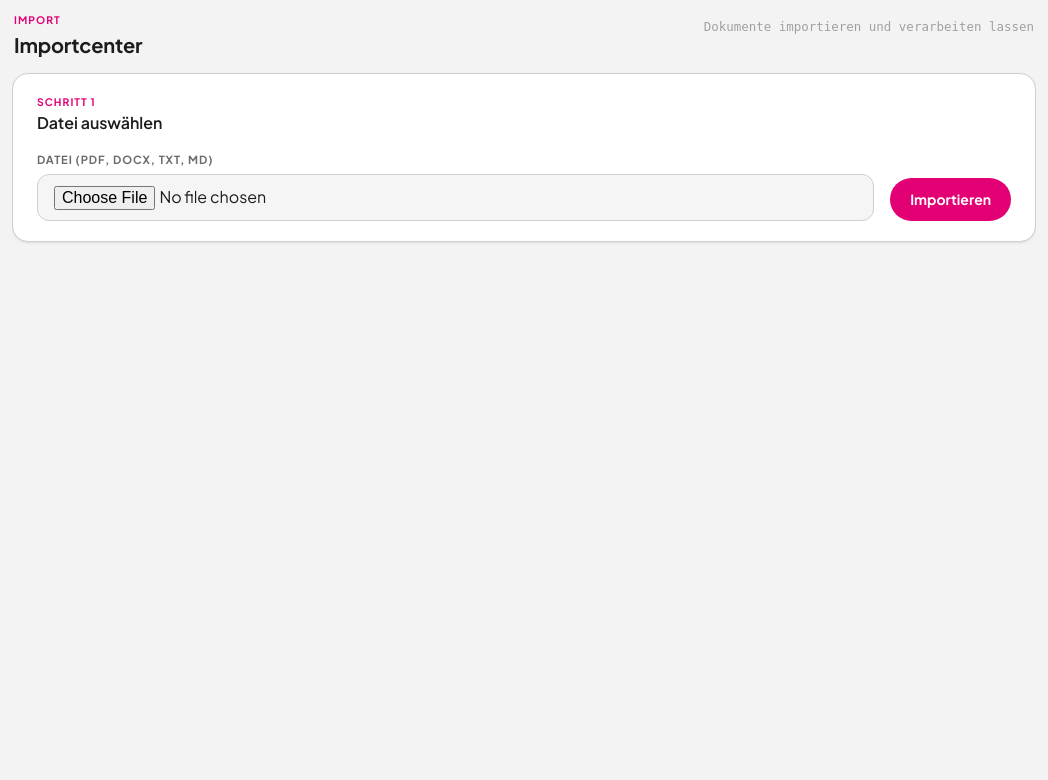
Test: ImportCenterPage › reset button clears current state back to idle
This screenshot has width=1048, height=780.
Submit the form with test id "upload-form", box [37,151,1011,221]
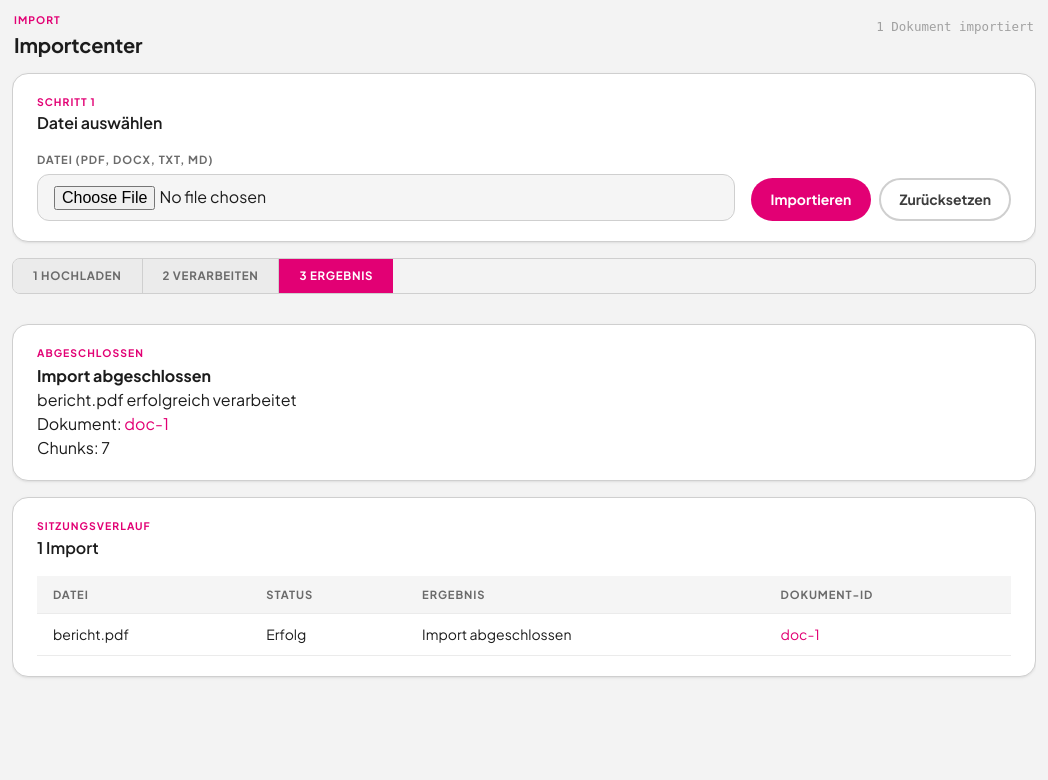
Expected: the element with test id "import-success" is shown, [12,324,1036,481]
Note: Reset button is visible after import
Click the button with test id "reset-button" at coordinates (945, 200), box [879,178,1011,221]
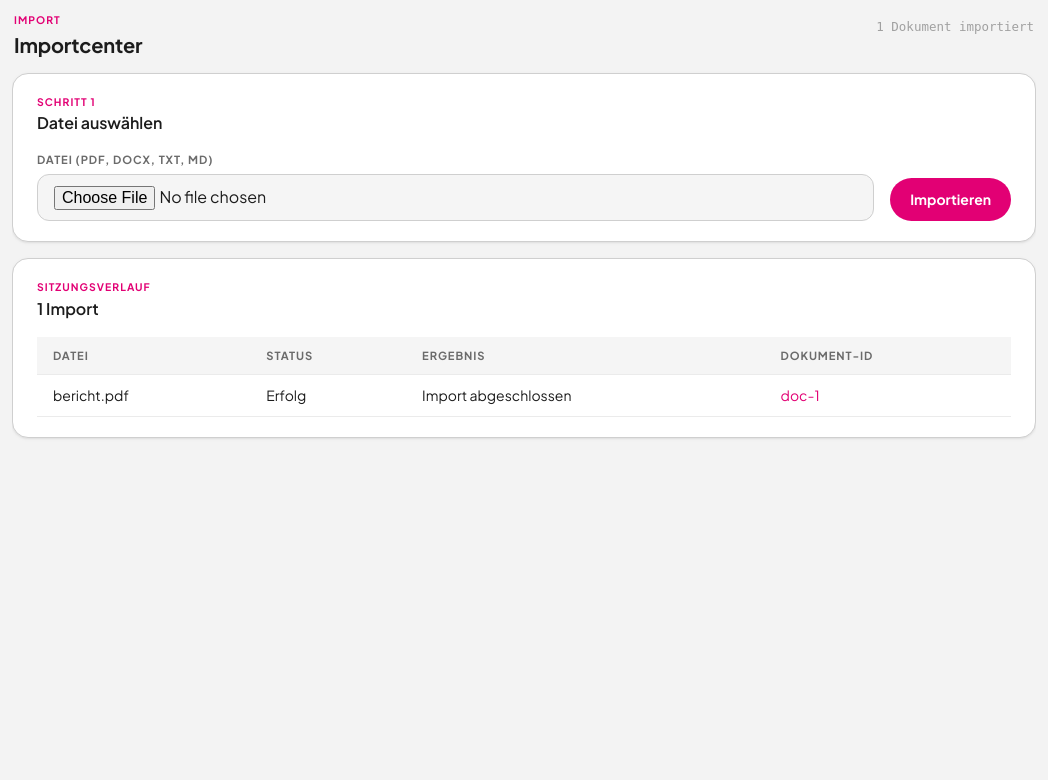
Expected: the element with test id "import-success" is gone
